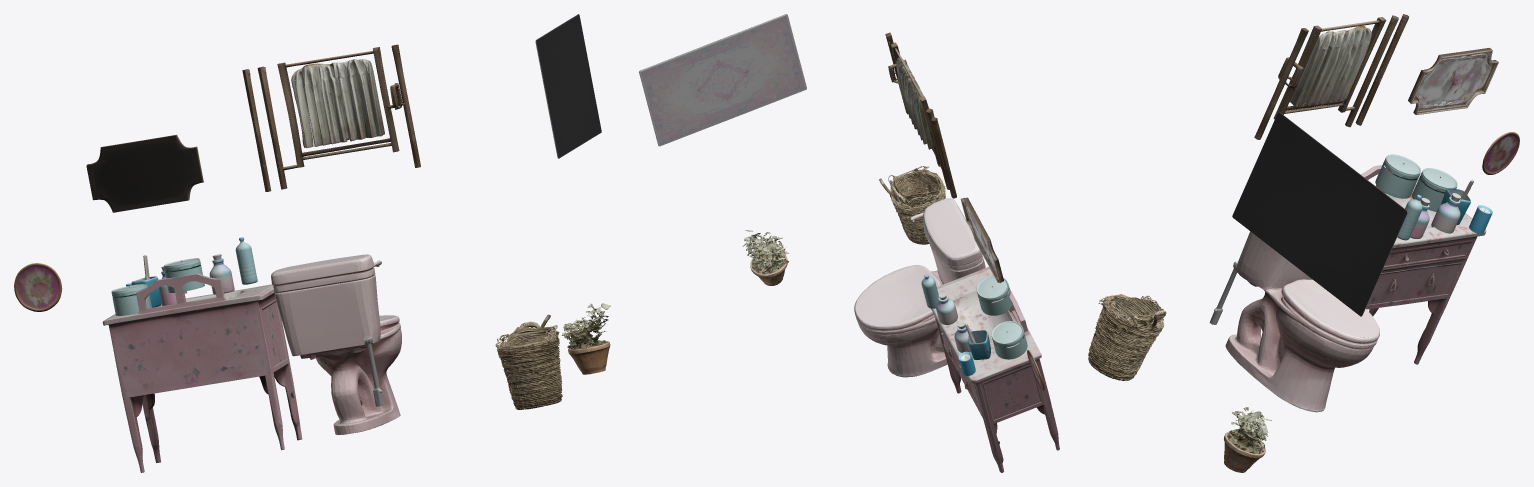
File: gallery-sage-becd50b3-web.glb
3 renders of one model, left to right at view 1: azimuth 30°, elevation 25°; view 2: azimuth 150°, elevation 25°; view 3: azimuth 270°, elevation 25°, orthographic. The views are drawn at different scales.
Visible parts, largest first — view 1: instance_13, instance_10, instance_12, instance_6, instance_8, instance_0, instance_5, instance_7, instance_4, instance_3, instance_9; view 2: instance_8, instance_10, instance_13, instance_12, instance_0, instance_5, instance_4, instance_3, instance_6, instance_11, instance_1; view 3: instance_8, instance_10, instance_12, instance_13, instance_0, instance_6, instance_5, instance_3, instance_4, instance_7, instance_2, instance_9 (+2 smaller).
Boxes of the visible parts, x1,y1,x2,y2 form: instance_13: [102, 273, 302, 472]; instance_10: [271, 254, 401, 434]; instance_12: [242, 44, 420, 191]; instance_6: [86, 134, 203, 212]; instance_8: [535, 14, 601, 158]; instance_0: [495, 314, 562, 409]; instance_5: [561, 303, 610, 374]; instance_7: [14, 263, 62, 311]; instance_4: [111, 284, 151, 315]; instance_3: [164, 258, 204, 292]; instance_9: [235, 237, 257, 284]; instance_8: [639, 14, 806, 146]; instance_10: [854, 198, 985, 377]; instance_13: [931, 267, 1059, 472]; instance_12: [885, 32, 956, 198]; instance_0: [879, 166, 945, 244]; instance_5: [742, 230, 788, 285]; instance_4: [991, 321, 1027, 359]; instance_3: [976, 276, 1012, 315]; instance_6: [960, 197, 1003, 282]; instance_11: [964, 323, 990, 359]; instance_1: [936, 292, 957, 324]; instance_8: [1232, 112, 1407, 316]; instance_10: [1209, 231, 1379, 412]; instance_12: [1254, 14, 1408, 139]; instance_13: [1361, 165, 1486, 364]; instance_0: [1088, 294, 1166, 380]; instance_6: [1408, 48, 1498, 114]; instance_5: [1224, 407, 1271, 472]; instance_3: [1375, 154, 1420, 198]; instance_4: [1412, 168, 1457, 211]; instance_7: [1482, 132, 1519, 174]; instance_2: [1431, 193, 1460, 233]; instance_9: [1397, 194, 1422, 240].
Size of the model in its own units: 1.66 by 1.28 by 1.17.
Materials: 15 (15 with a texture image).
